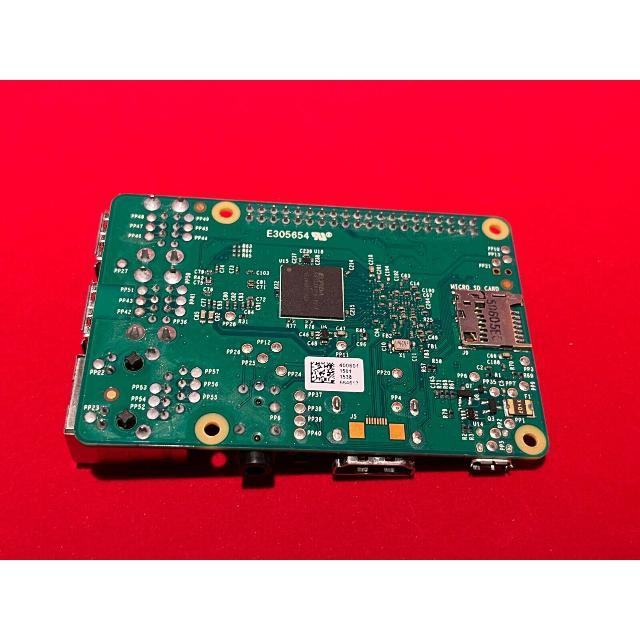Raspberry-Pi-2-B: (66, 195, 549, 467)
